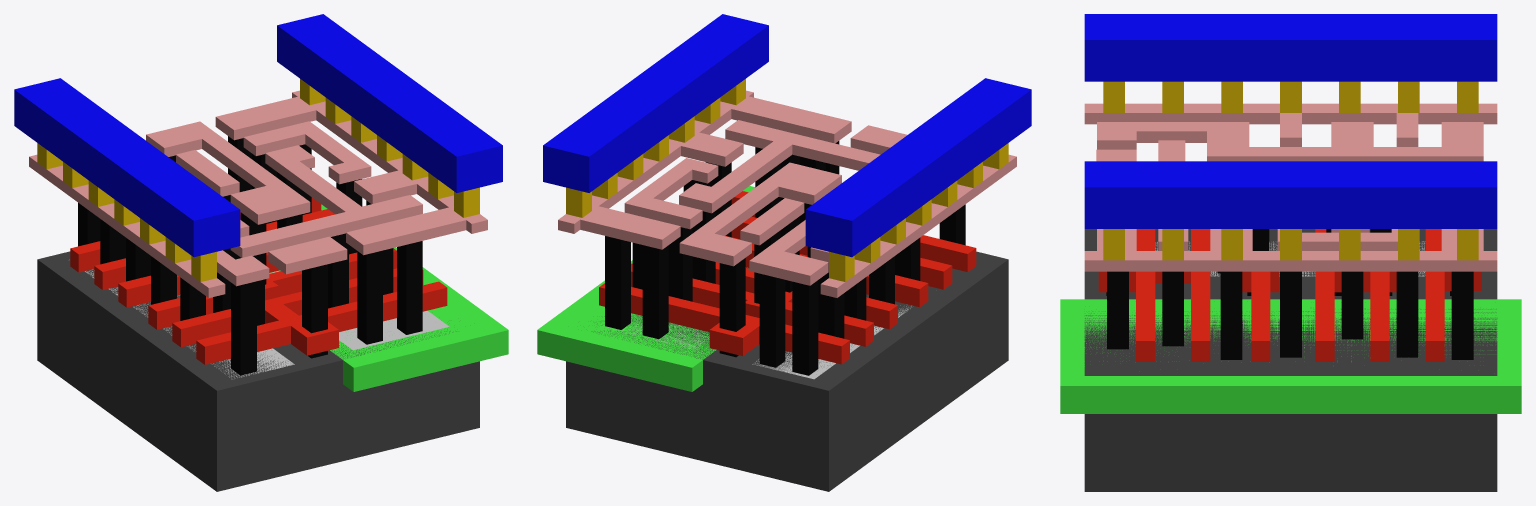
Rendered from sky130_fd_sc_hd__o21ai_2.obj.
3 views of the same model, side by side, from view 1: azimuth 30°, elevation 25°; view 2: azimuth 150°, elevation 25°; view 3: azimuth 270°, elevation 25° (orthographic). The views are drawn at different scales.
Visible parts, largest first — view 1: subs, metal1, li, licon, poly, nwell, mcon, tap, diff; view 2: subs, metal1, li, licon, poly, nwell, mcon, diff; view 3: metal1, subs, li, nwell, poly, licon, mcon.
Boxes of the visible parts, <box> form: subs: <box>37,251,479,491</box>; metal1: <box>14,14,502,257</box>; li: <box>29,90,487,297</box>; licon: <box>78,136,422,375</box>; poly: <box>70,197,447,364</box>; nwell: <box>270,204,508,391</box>; mcon: <box>37,79,479,281</box>; tap: <box>269,270,449,350</box>; diff: <box>69,259,294,379</box>; subs: <box>566,251,1008,491</box>; metal1: <box>543,14,1031,257</box>; li: <box>558,90,1016,297</box>; licon: <box>605,141,965,375</box>; poly: <box>599,191,976,364</box>; nwell: <box>537,186,754,391</box>; mcon: <box>566,79,1008,281</box>; diff: <box>752,305,911,379</box>; metal1: <box>1084,14,1497,228</box>; subs: <box>1084,229,1497,491</box>; li: <box>1084,103,1497,271</box>; nwell: <box>1060,299,1521,413</box>; poly: <box>1098,229,1481,361</box>; licon: <box>1106,229,1473,359</box>; mcon: <box>1103,81,1478,260</box>.
Size of the model in its own units: 3.2 by 2.74 by 3.6.
